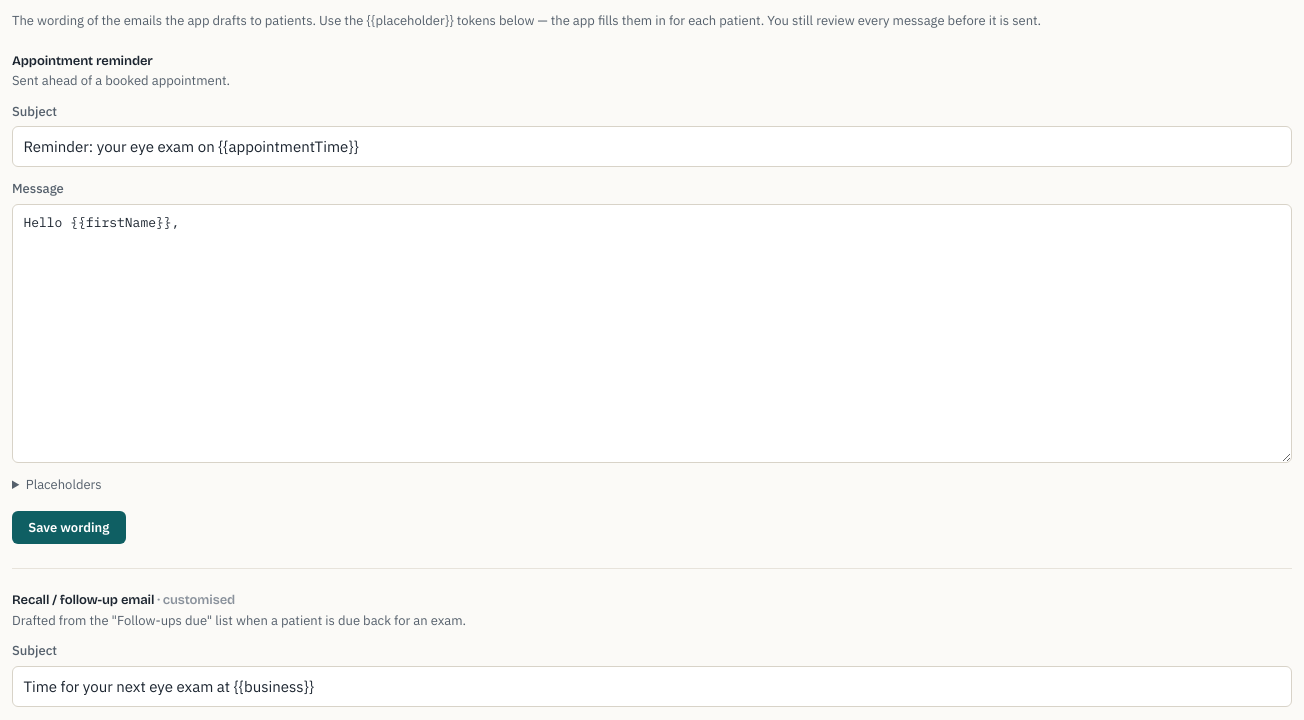
Test: EmailTemplateSettings › blocks a save with an empty body
The width and height of the screenshot is (1304, 720).
Clear the text box labelled "Message": (652, 333) [12,204,1292,463]
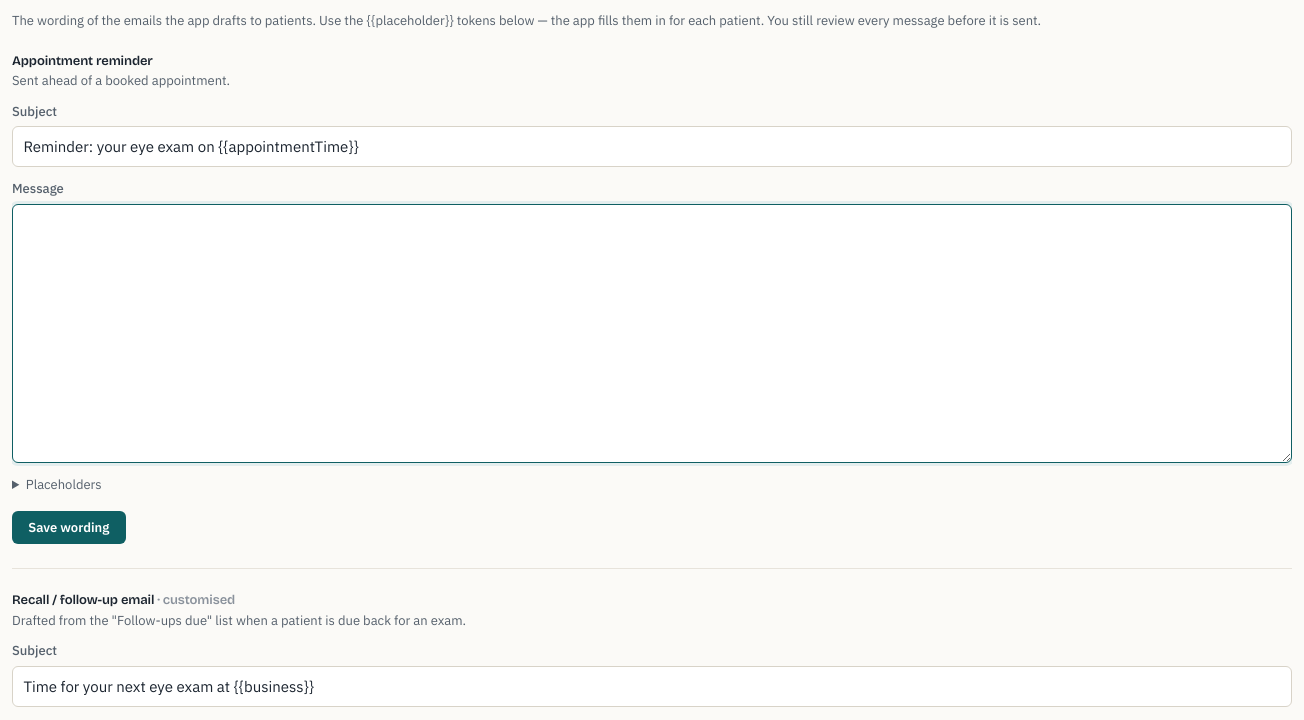
Click the button with aria-label "Save Appointment reminder template": (69, 528) [12,511,126,544]
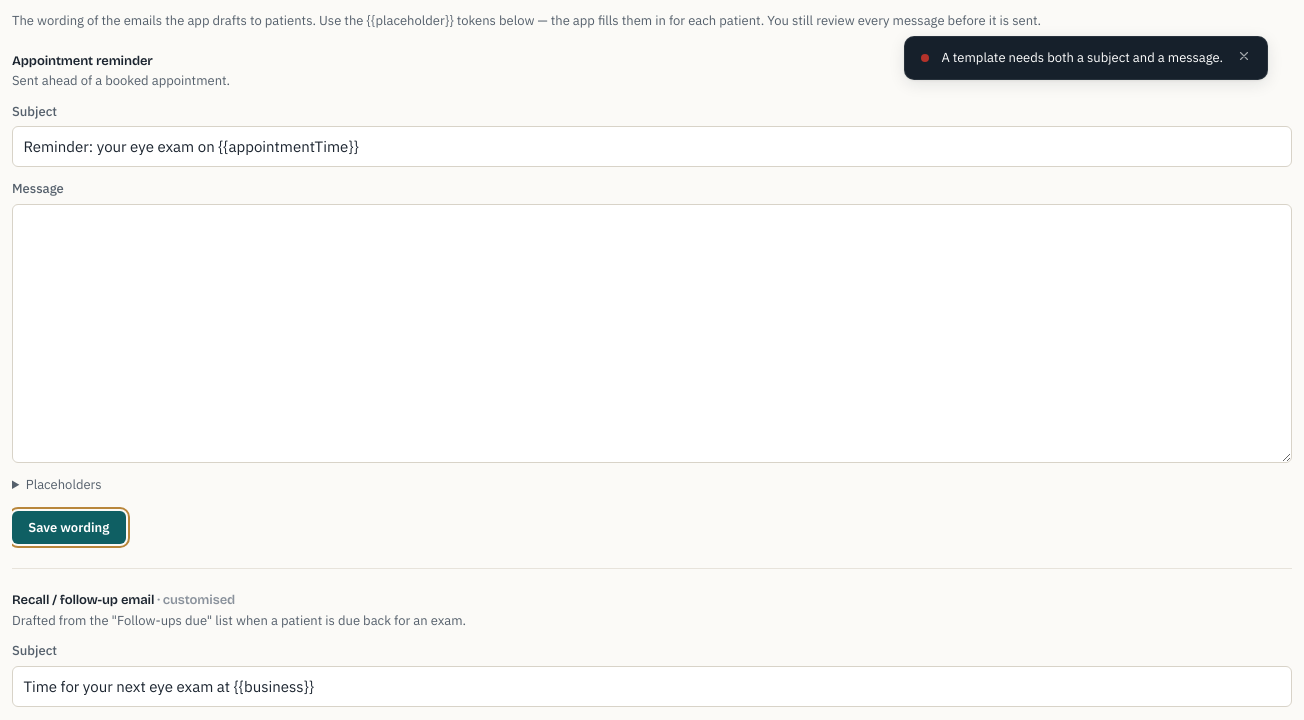
Expected: the text "A template needs both a subject and a message." is shown, [942,49,1223,66]
